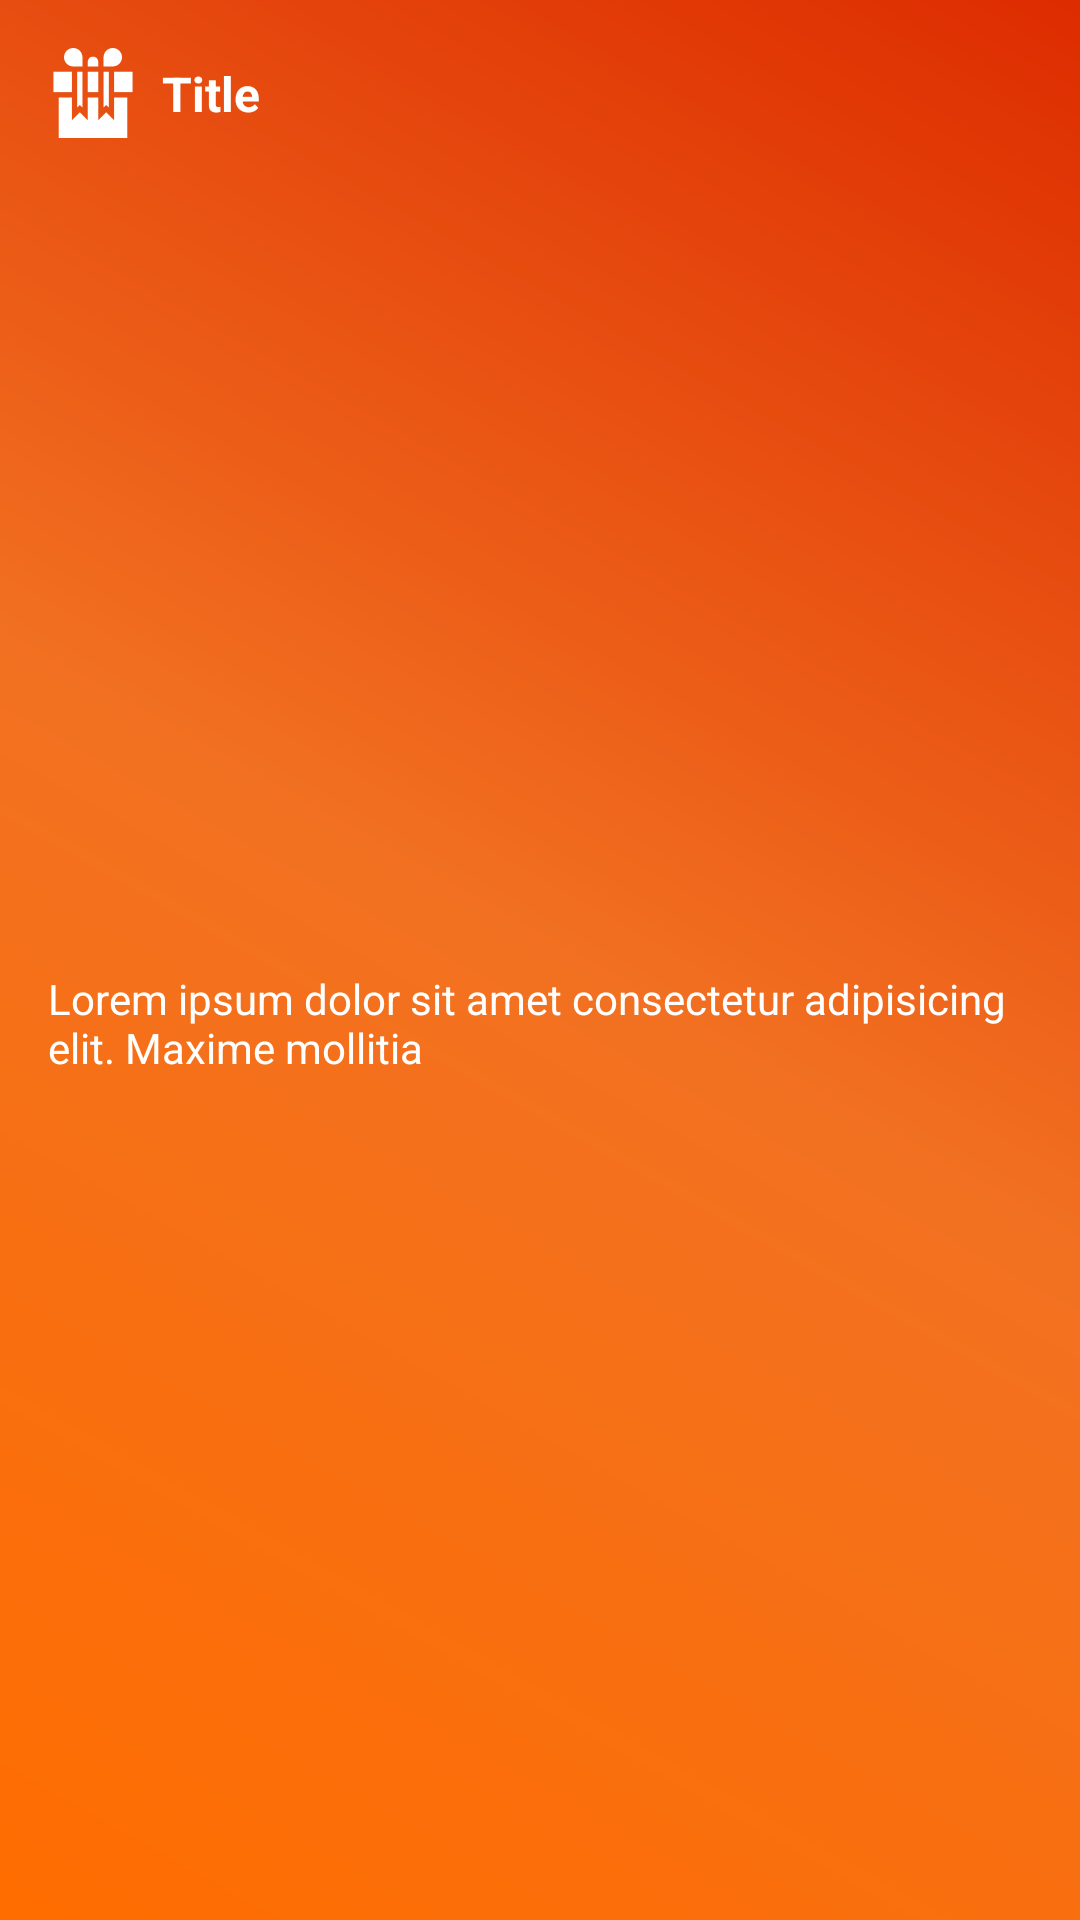

Locate icon controls on the screen. Image size 1080 × 1920, boxes as (left=x1, top=y1, right=x2, bottom=y2).
rewards: (left=53, top=48, right=133, bottom=138)
